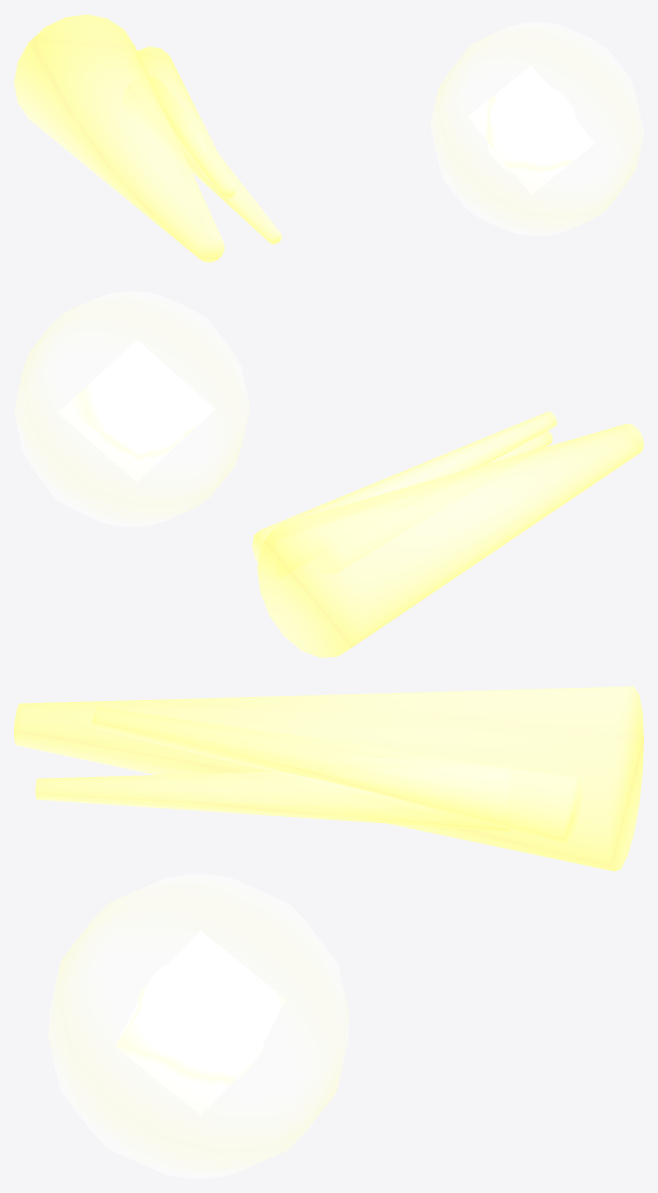
File: xy_fx_shooting_star.glb
The picture shows the model from 3 angles, top to bottom: view 1: azimuth 30°, elevation 25°; view 2: azimuth 150°, elevation 25°; view 3: azimuth 270°, elevation 25°; orthographic projection. The views are drawn at different scales.
Visible parts, largest first — view 1: GlowAura, TrailCone, CoreStar, TrailRibbonLower, TrailRibbonUpper, CoreHotCenter; view 2: GlowAura, TrailCone, CoreStar, TrailRibbonUpper, TrailRibbonLower, CoreHotCenter; view 3: GlowAura, TrailCone, TrailRibbonUpper, TrailRibbonLower, CoreStar, CoreHotCenter.
Boxes of the visible parts, x1,y1,x2,y2 form: GlowAura: [430, 22, 643, 236]; TrailCone: [14, 14, 224, 262]; CoreStar: [468, 65, 594, 194]; TrailRibbonLower: [122, 76, 281, 244]; TrailRibbonUpper: [127, 46, 236, 197]; CoreHotCenter: [486, 87, 576, 176]; GlowAura: [14, 291, 249, 527]; TrailCone: [257, 423, 643, 657]; CoreStar: [58, 340, 215, 481]; TrailRibbonUpper: [252, 411, 557, 577]; TrailRibbonLower: [317, 430, 552, 573]; CoreHotCenter: [91, 374, 183, 461]; GlowAura: [48, 874, 348, 1178]; TrailCone: [14, 686, 643, 871]; TrailRibbonUpper: [92, 707, 582, 842]; TrailRibbonLower: [35, 764, 511, 831]; CoreStar: [115, 930, 285, 1114]; CoreHotCenter: [135, 963, 265, 1089].
Bounding box in the file's own units: 1.91 × 0.72 × 1.48.
